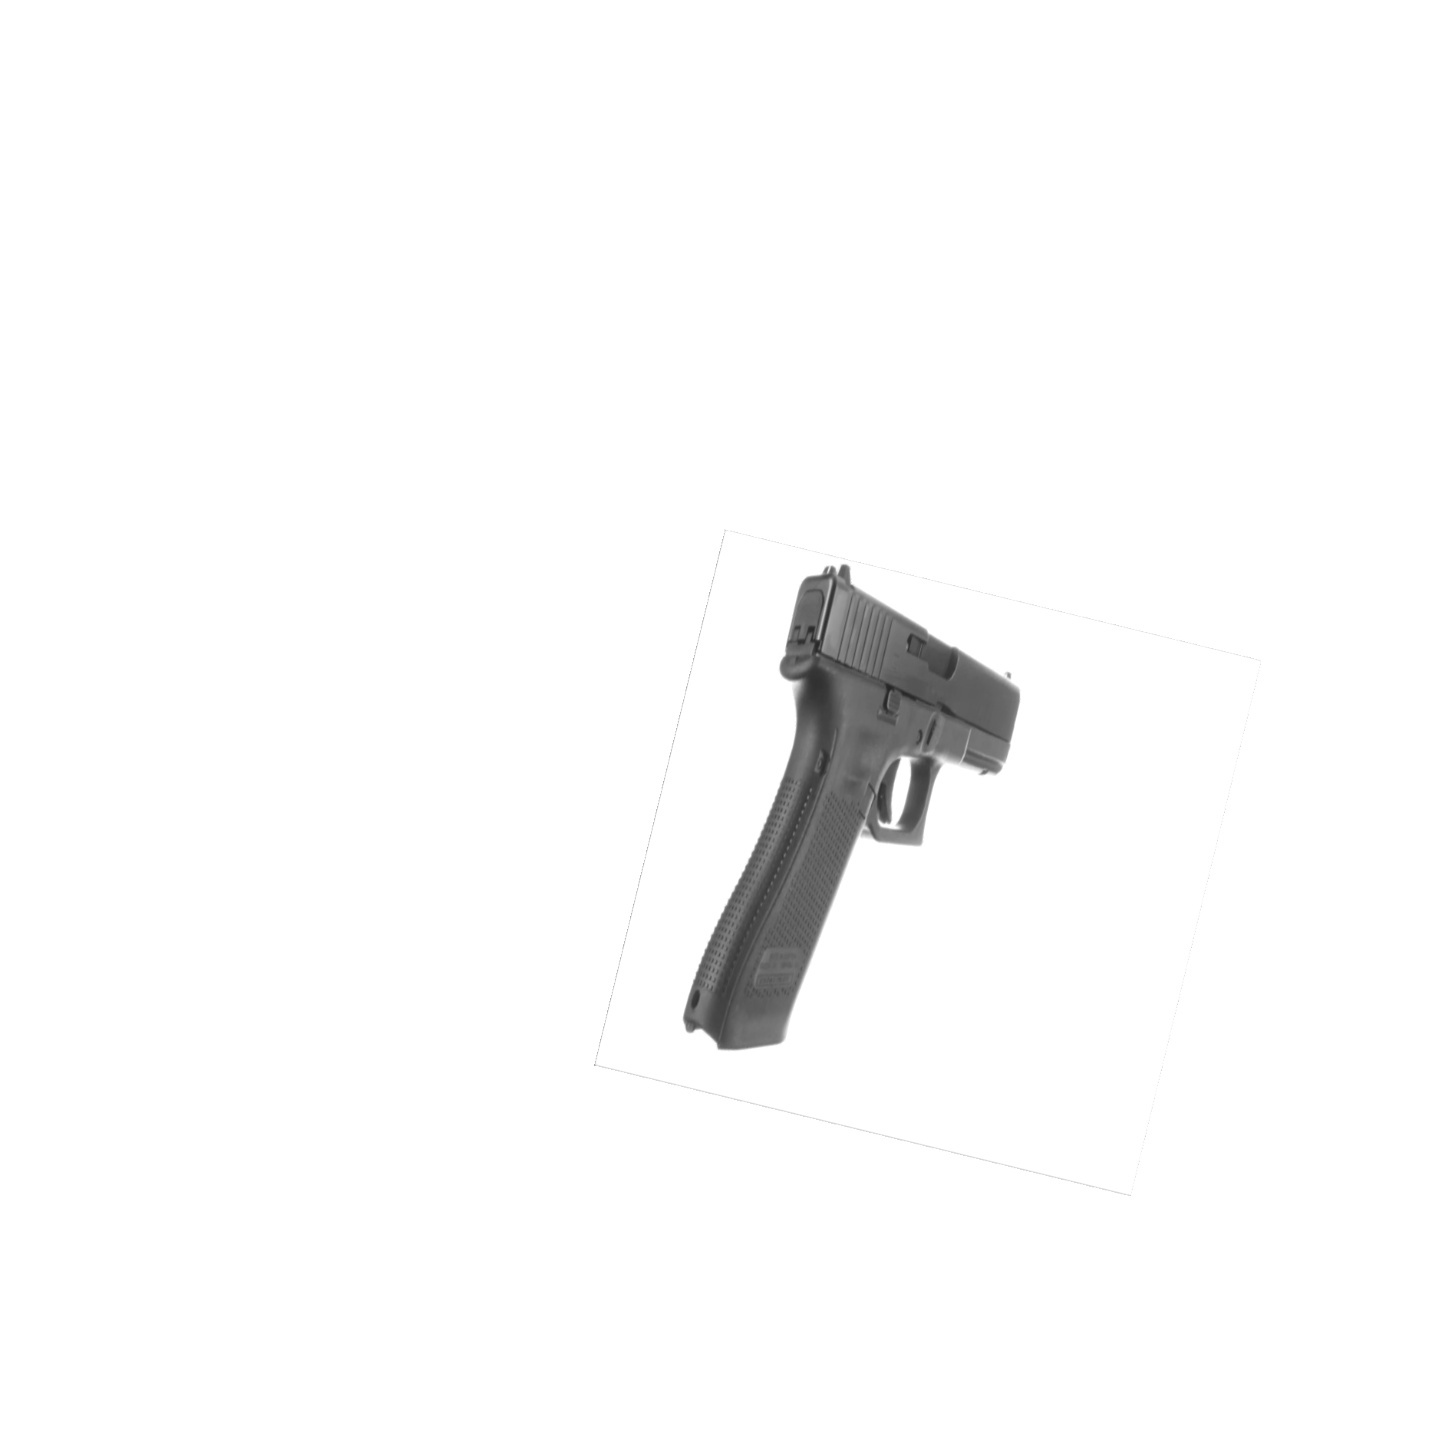gun: (683, 562, 1022, 1051)
